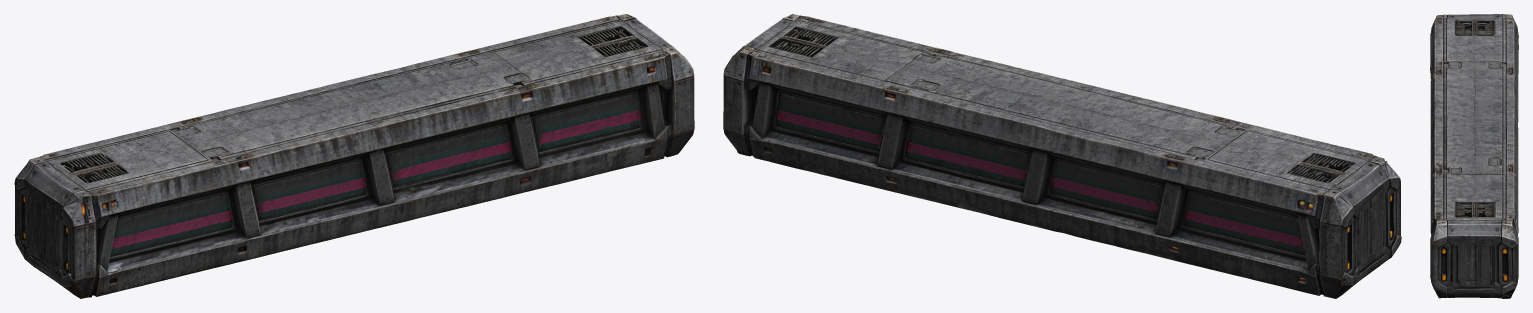
Rendered from kairox-transit-beam.glb.
The picture shows the model from 3 angles, left to right: view 1: azimuth 30°, elevation 25°; view 2: azimuth 150°, elevation 25°; view 3: azimuth 270°, elevation 25°; orthographic projection. The views are drawn at different scales.
Visible parts, largest first — view 1: kairox-transit-beam; view 2: kairox-transit-beam; view 3: kairox-transit-beam.
Boxes of the visible parts, bbox=[...] form: kairox-transit-beam: bbox=[14, 14, 694, 298]; kairox-transit-beam: bbox=[723, 14, 1401, 298]; kairox-transit-beam: bbox=[1430, 14, 1518, 298].
Size of the model in its own units: 8 by 1.3 by 1.37.
1 material, 1 textured.
